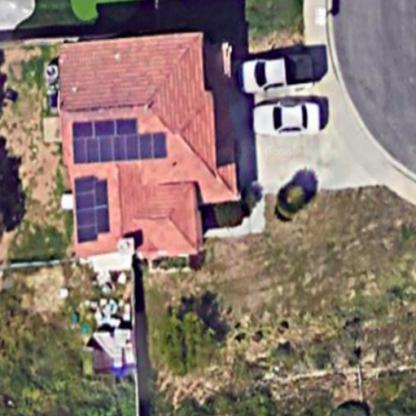car: (229, 51, 321, 89), (245, 97, 329, 137)
solar_panel: (66, 113, 171, 167), (70, 170, 114, 248)
